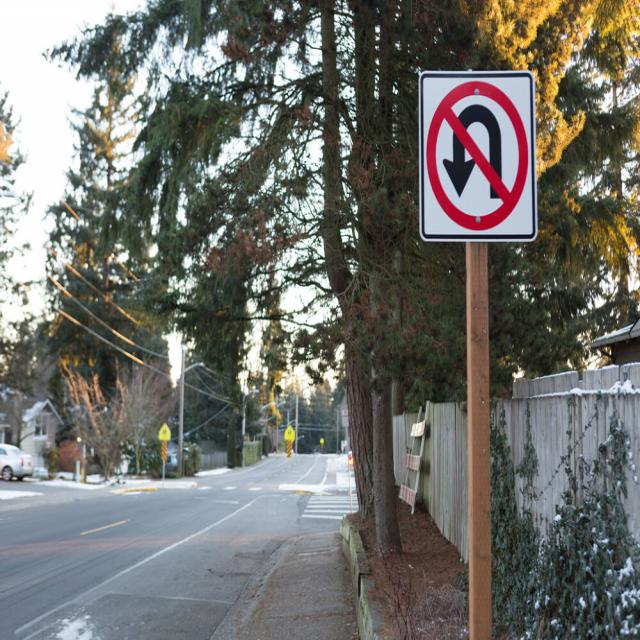no u turn: (425, 76, 533, 233)
